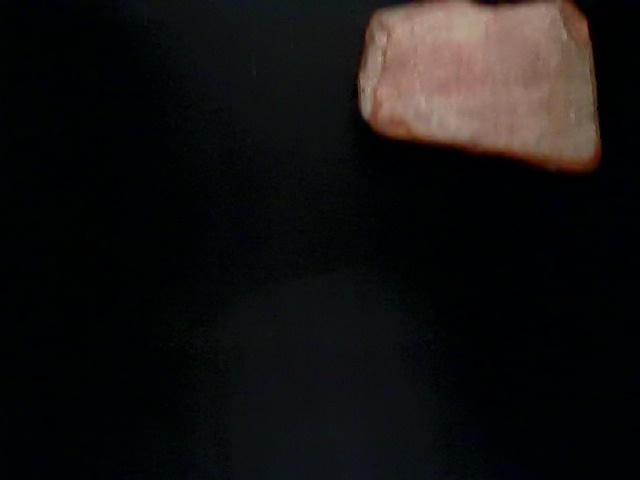KHSLJ: (264, 94, 594, 406)
